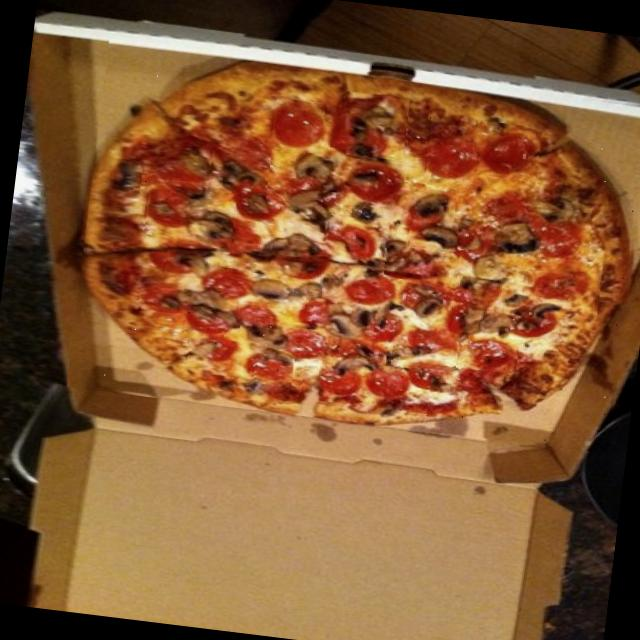mushrooms: (340, 90, 410, 154), (455, 250, 526, 306), (482, 214, 548, 266), (176, 196, 236, 253), (208, 146, 271, 200), (397, 181, 458, 232), (310, 302, 376, 348), (236, 310, 292, 360), (180, 283, 240, 326), (448, 296, 503, 342), (245, 272, 308, 309), (163, 246, 220, 284), (301, 144, 346, 192), (398, 287, 455, 324), (408, 217, 459, 251), (100, 156, 143, 194)
pepperoni: (275, 320, 389, 369), (508, 204, 592, 269), (521, 254, 603, 318), (342, 360, 432, 414), (492, 290, 564, 352), (327, 152, 406, 208), (300, 356, 383, 408), (426, 122, 494, 185), (322, 214, 390, 276), (474, 120, 542, 179), (145, 174, 203, 236), (222, 299, 294, 347), (394, 317, 461, 368), (270, 97, 326, 154), (268, 237, 328, 289), (337, 272, 402, 316), (462, 330, 520, 376), (229, 185, 287, 228), (186, 262, 248, 300), (187, 333, 246, 371), (252, 340, 296, 390), (138, 288, 194, 316), (182, 314, 225, 344)
pizza: (85, 61, 628, 425)
